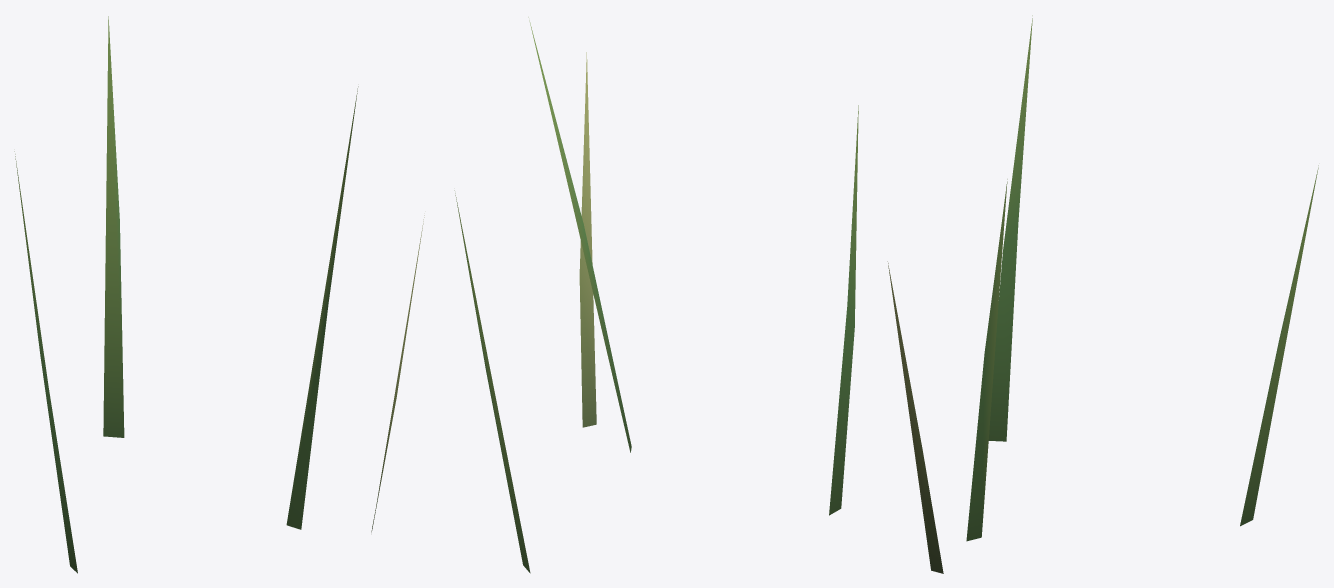
The model's file is MeadowSoft_LOD3.glb.
3 views of the same model, side by side, from view 1: azimuth 30°, elevation 25°; view 2: azimuth 150°, elevation 25°; view 3: azimuth 270°, elevation 25° (orthographic). The views are drawn at different scales.
Parts seen in each view (by area): view 1: MeadowSoft_LOD3; view 2: MeadowSoft_LOD3; view 3: MeadowSoft_LOD3.
Part boxes in pixels (<box>): MeadowSoft_LOD3: <box>14,16,424,573</box>; MeadowSoft_LOD3: <box>454,17,858,573</box>; MeadowSoft_LOD3: <box>887,15,1318,573</box>.
Bounding box in the file's own units: 0.2309 × 0.2782 × 0.2643.
